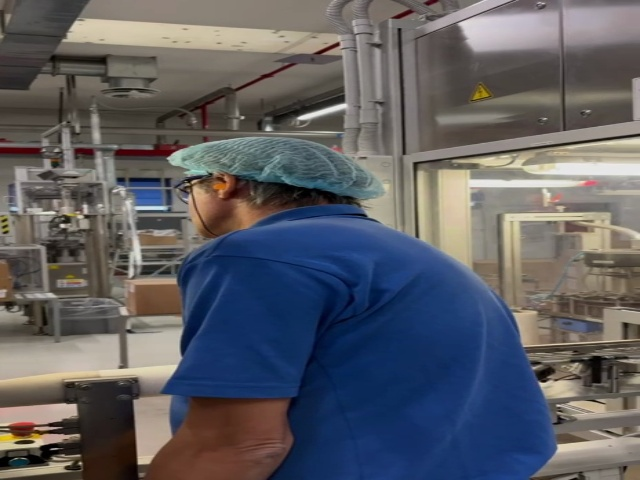Earplug: (213, 172, 237, 200)
Hairnet: (169, 133, 381, 196)
No_Helmet: (175, 132, 380, 179)
No_Vest: (181, 226, 559, 480)
Person: (170, 136, 555, 480)
Safety_Goggles: (172, 172, 215, 208)
